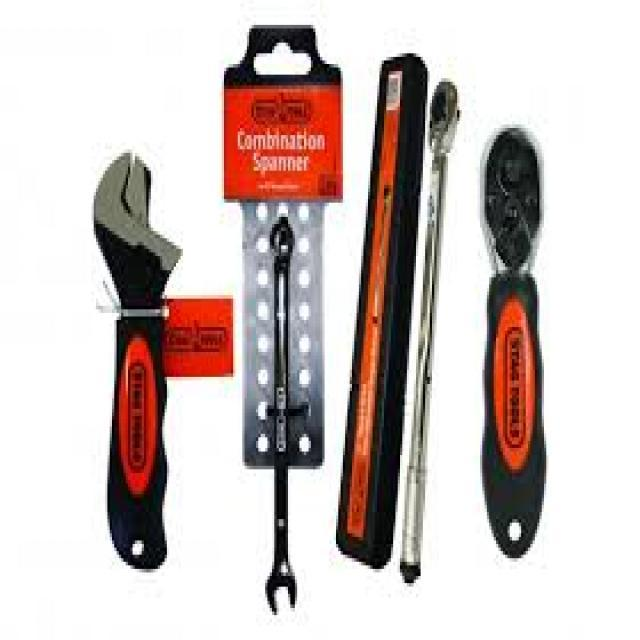wrench: (86, 145, 180, 583), (394, 72, 468, 589), (258, 212, 305, 616)
